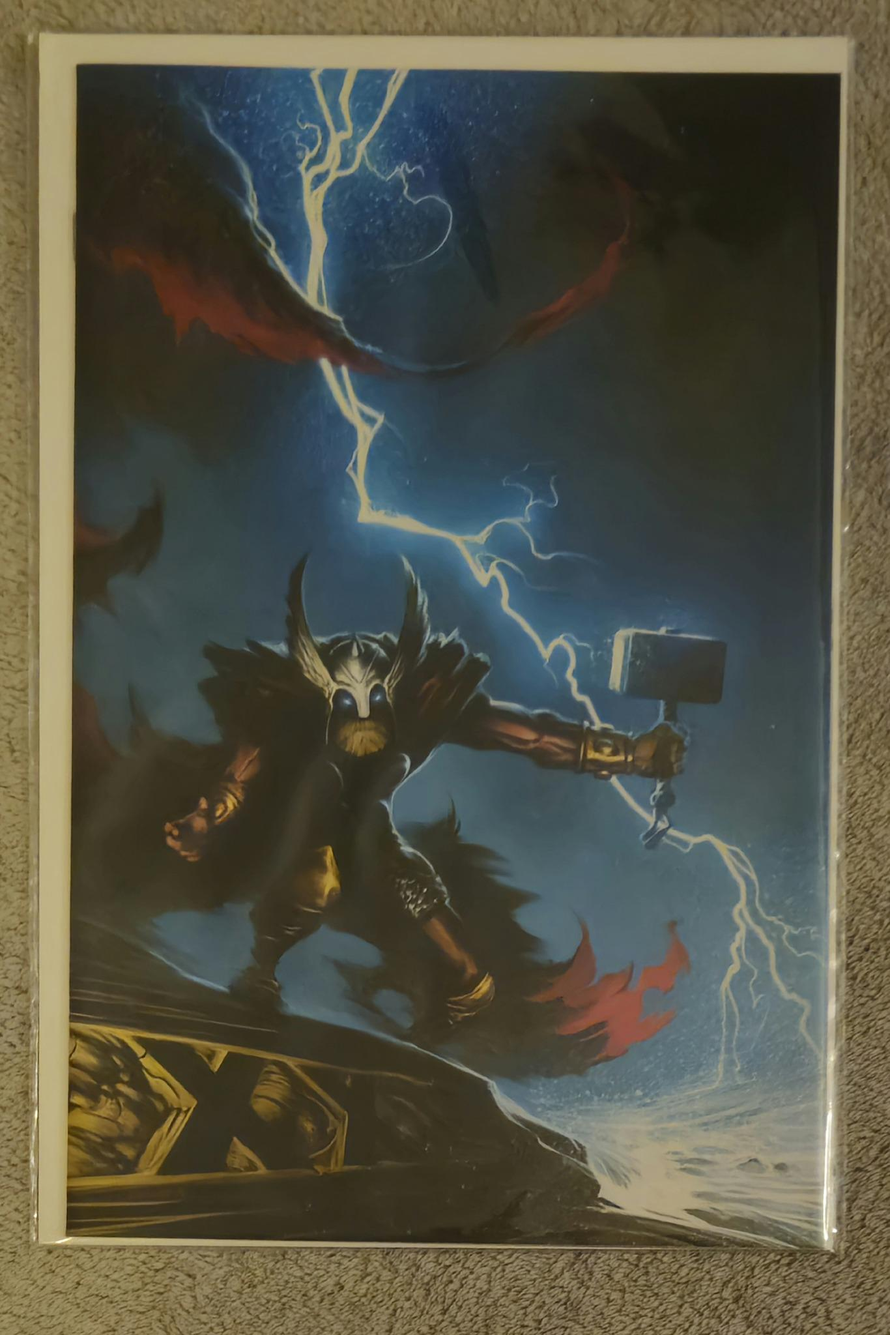comic: (30, 33, 847, 1247)
